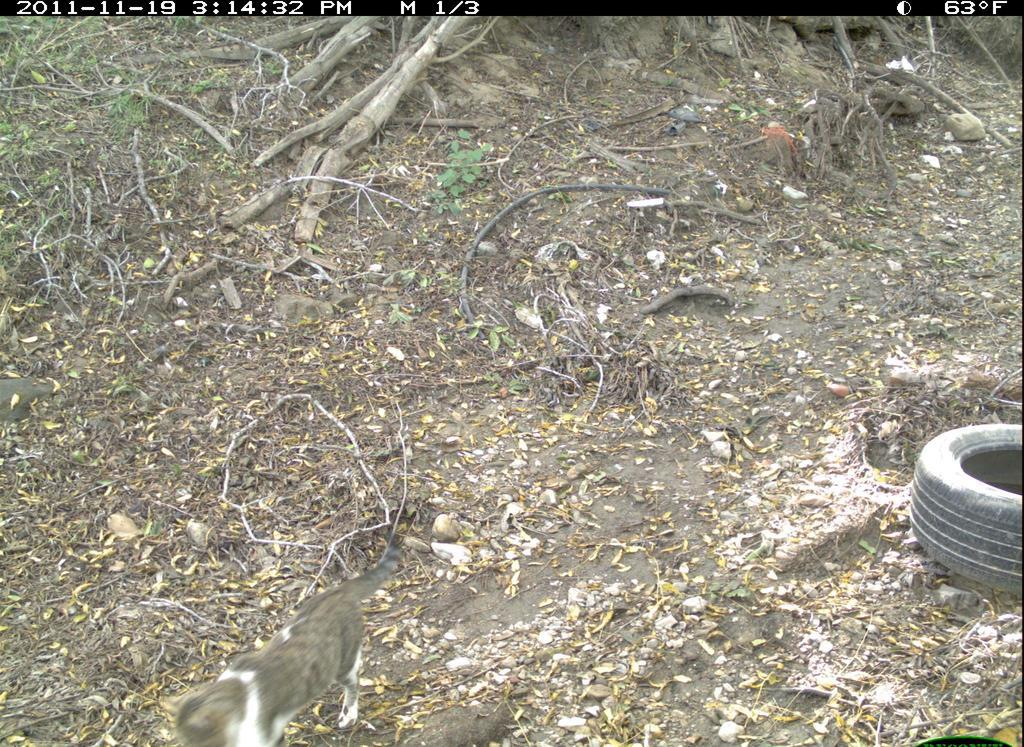cat: (155, 527, 422, 747)
